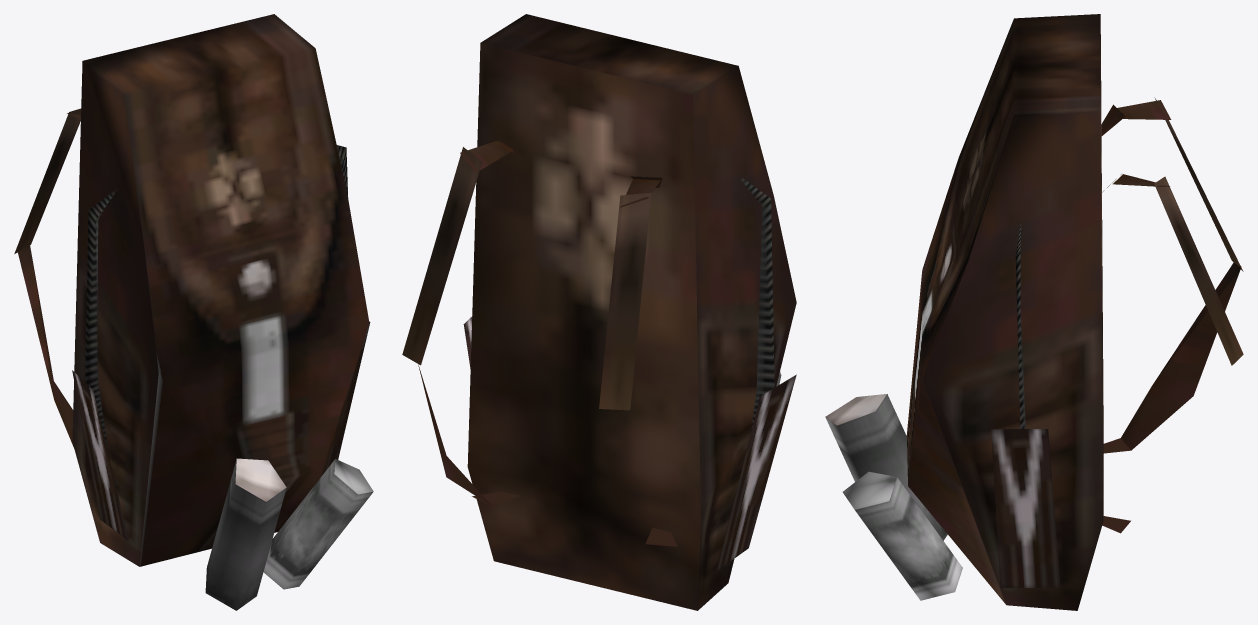
The model's file is eqp_medic_medpack_lg_s1_l2.fbx.
3 renders of one model, left to right at view 1: azimuth 30°, elevation 25°; view 2: azimuth 150°, elevation 25°; view 3: azimuth 270°, elevation 25°, orthographic. The views are drawn at different scales.
Parts seen in each view (by area): view 1: mesh_node; view 2: mesh_node; view 3: mesh_node.
Part boxes in pixels (x1,y1,x2,y2): mesh_node: (14,14,373,610); mesh_node: (402,14,796,610); mesh_node: (825,14,1243,610).
Size of the model in its own units: 0.427 by 0.7286 by 0.5319.
